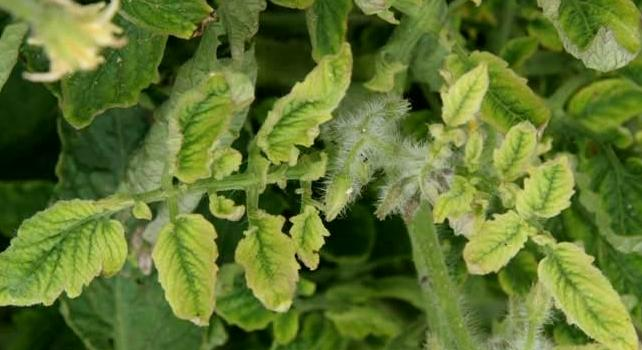Tomato leaf yellow virus: (0, 187, 137, 320), (253, 29, 359, 167), (538, 216, 642, 350), (162, 48, 246, 190), (161, 209, 218, 333), (522, 117, 588, 223), (458, 199, 533, 291), (240, 221, 291, 331), (434, 49, 499, 124)
